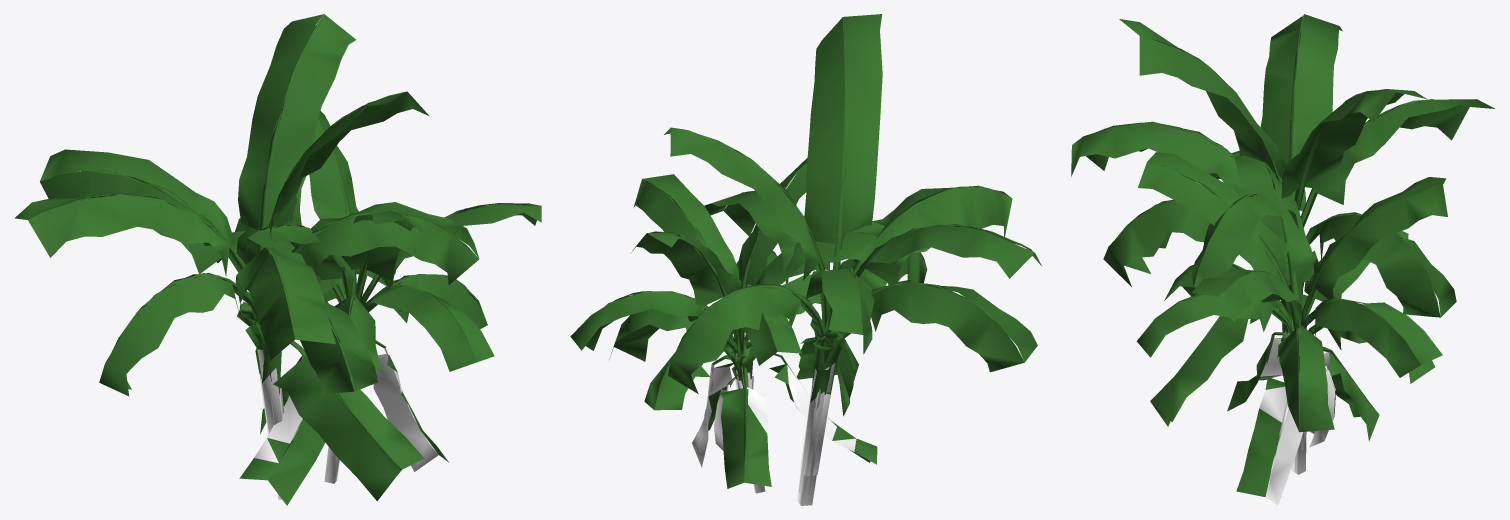
The model's file is banana_plant.glb.
3 renders of one model, left to right at view 1: azimuth 30°, elevation 25°; view 2: azimuth 150°, elevation 25°; view 3: azimuth 270°, elevation 25°, orthographic. The views are drawn at different scales.
Visible parts, largest first — view 1: OwnerBananaPlant; view 2: OwnerBananaPlant; view 3: OwnerBananaPlant.
Part boxes in pixels (<box>): OwnerBananaPlant: <box>15,14,541,505</box>; OwnerBananaPlant: <box>570,14,1041,505</box>; OwnerBananaPlant: <box>1071,14,1494,505</box>.
Size of the model in its own units: 2.97 by 2.76 by 2.43.
